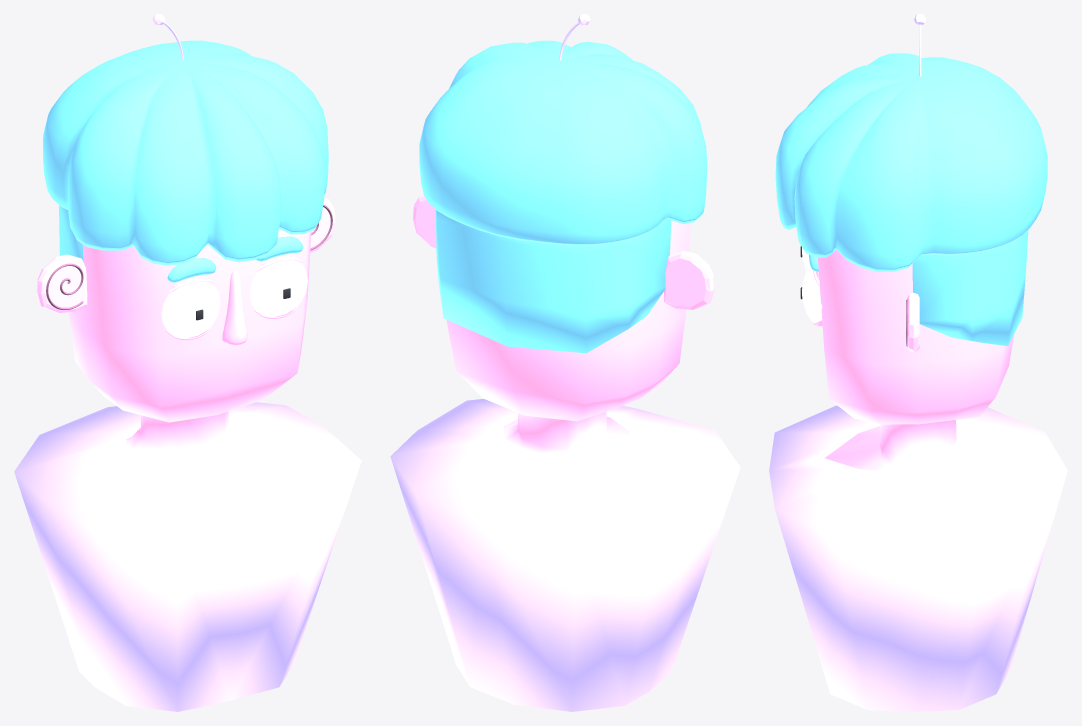
The model's file is convoBert.fbx.
The picture shows the model from 3 angles, left to right: view 1: azimuth 30°, elevation 25°; view 2: azimuth 150°, elevation 25°; view 3: azimuth 270°, elevation 25°; orthographic projection. The views are drawn at different scales.
Visible parts, largest first — view 1: clothes, hair_bowl, head, R_eye, L_eye, R_ear, nose, hair_back, R_brow, L_ear, L_brow; view 2: clothes, hair_bowl, hair_back, head, R_ear, L_ear; view 3: clothes, hair_bowl, head, hair_back, L_eye, L_ear.
Part boxes in pixels (x1,y1,x2,y2): clothes: [14, 402, 361, 711]; hair_bowl: [43, 40, 328, 265]; head: [69, 229, 311, 485]; R_eye: [161, 276, 220, 340]; L_eye: [249, 255, 307, 319]; R_ear: [37, 254, 87, 312]; nose: [222, 270, 247, 345]; hair_back: [59, 205, 83, 261]; R_brow: [167, 258, 216, 282]; L_ear: [310, 197, 335, 252]; L_brow: [256, 236, 302, 261]; clothes: [390, 399, 740, 711]; hair_bowl: [419, 40, 707, 245]; hair_back: [435, 209, 671, 353]; head: [446, 220, 690, 459]; R_ear: [664, 251, 714, 309]; L_ear: [413, 194, 436, 248]; clothes: [769, 405, 1067, 711]; hair_bowl: [775, 53, 1047, 271]; head: [818, 250, 1014, 473]; hair_back: [912, 229, 1028, 345]; L_eye: [800, 266, 822, 326]; L_ear: [907, 292, 919, 352].
Size of the model in its own units: 822 by 1739 by 731.
